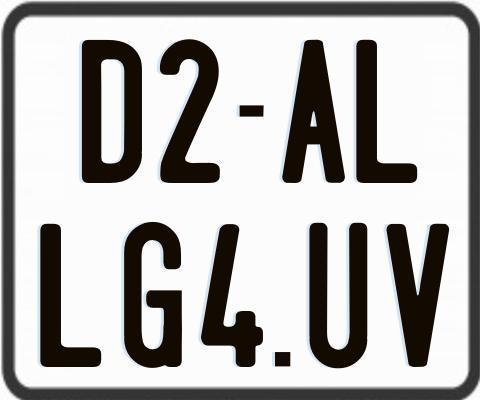2: (160, 38, 221, 186)
4: (201, 221, 269, 366)
A: (280, 37, 344, 186)
D: (79, 37, 139, 182)
G: (124, 219, 188, 366)
L: (39, 224, 102, 368), (354, 37, 415, 185)
U: (307, 222, 366, 373)
V: (386, 221, 453, 364)
